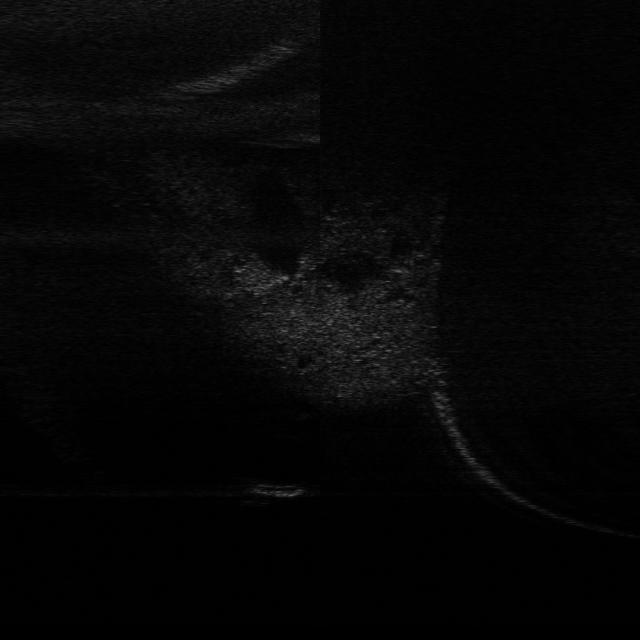cube: (236, 474, 316, 506)
